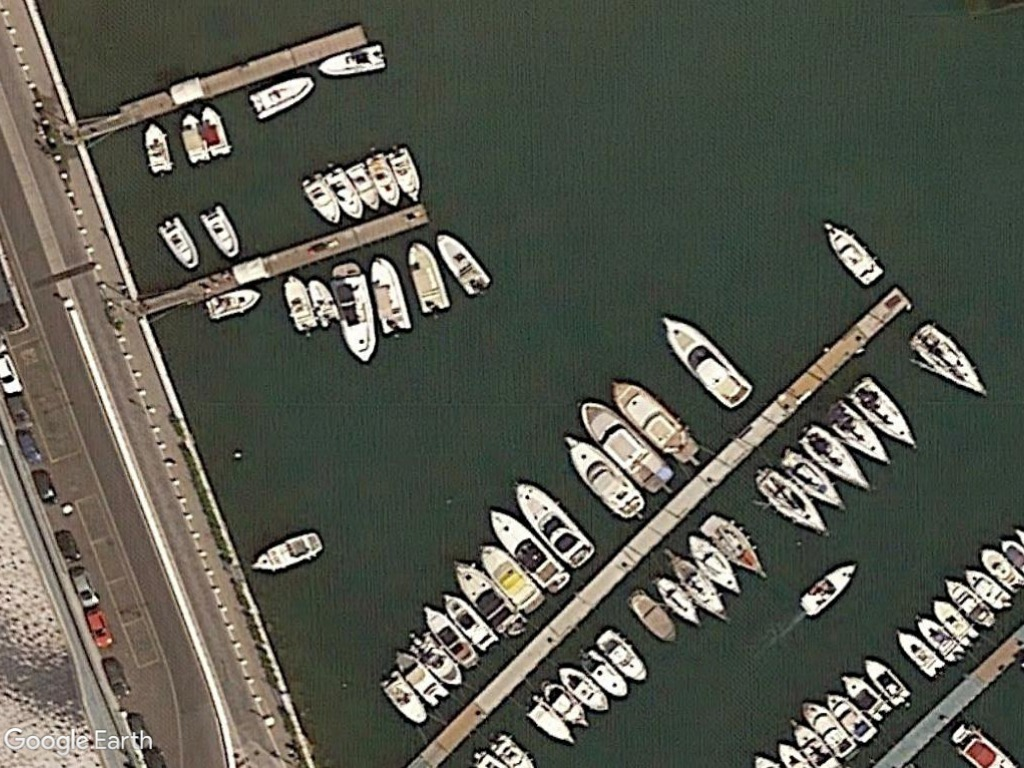boat: (574, 395, 675, 494), (656, 313, 756, 410), (608, 375, 702, 466), (509, 474, 598, 568), (559, 431, 648, 522), (482, 505, 573, 590), (903, 321, 994, 399), (448, 556, 527, 638), (843, 376, 921, 453), (751, 464, 832, 538), (795, 421, 875, 493), (773, 446, 851, 515), (474, 541, 546, 614), (663, 548, 732, 624), (328, 262, 378, 364), (817, 217, 886, 288), (823, 399, 894, 468), (701, 513, 771, 582), (417, 598, 481, 670), (432, 228, 492, 297), (684, 532, 746, 596), (438, 589, 500, 651), (369, 254, 414, 337), (798, 698, 858, 759), (796, 561, 858, 620), (623, 587, 682, 649), (405, 240, 452, 317), (248, 528, 324, 574), (390, 648, 450, 706), (404, 633, 466, 689), (249, 72, 316, 123), (937, 573, 998, 629), (648, 572, 706, 629), (821, 689, 880, 745), (593, 628, 652, 683), (521, 692, 579, 747), (149, 212, 202, 271), (376, 668, 428, 727), (315, 39, 388, 79), (891, 626, 946, 679), (536, 676, 592, 728), (555, 664, 614, 713), (576, 647, 631, 699), (929, 595, 981, 650), (912, 611, 967, 663), (838, 670, 892, 722), (862, 654, 913, 708), (960, 563, 1014, 612), (277, 271, 318, 335), (384, 143, 426, 203), (360, 150, 403, 208), (322, 162, 365, 219), (199, 202, 242, 258), (976, 543, 1024, 593), (298, 172, 341, 225), (204, 283, 263, 321), (345, 159, 384, 215), (303, 275, 341, 329), (198, 100, 233, 157), (177, 109, 212, 166), (141, 122, 176, 175)
car: (67, 564, 102, 611), (80, 606, 118, 649)
